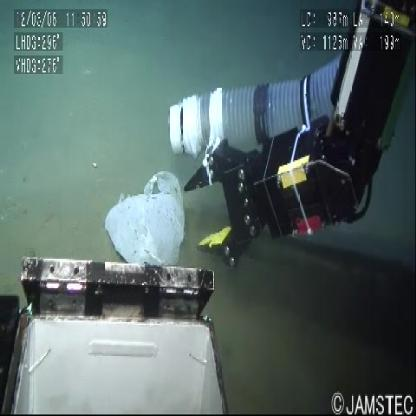Rov: (162, 3, 416, 270), (1, 249, 229, 416)
Rác: (100, 158, 193, 266)
